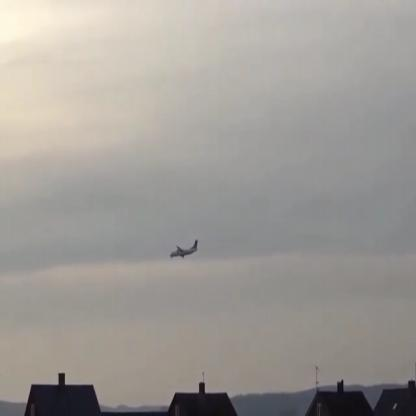CIV_Plane: (170, 240, 199, 260)
